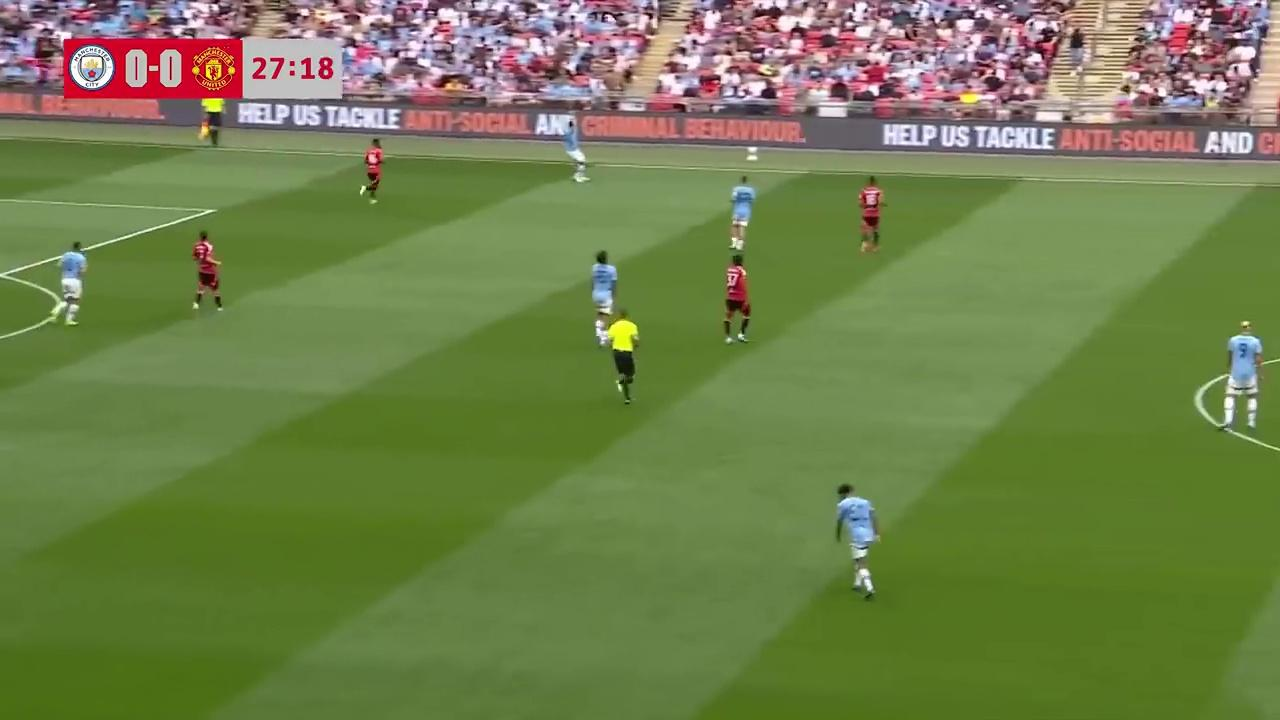player: (834, 483, 880, 599), (1223, 319, 1264, 432), (190, 230, 224, 313), (53, 241, 87, 324), (590, 251, 618, 345), (723, 256, 751, 344), (857, 176, 884, 254), (729, 174, 756, 250), (361, 139, 383, 204), (565, 124, 588, 183)
referee: (605, 305, 641, 404), (197, 91, 224, 148)
